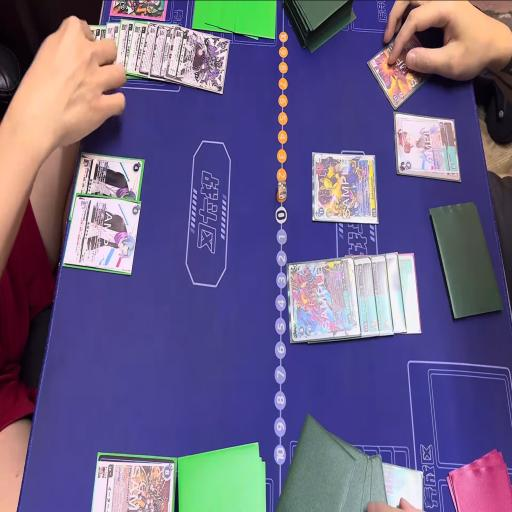card: (285, 256, 358, 349), (61, 194, 145, 274), (68, 152, 143, 230), (311, 153, 380, 230), (370, 29, 427, 111), (91, 458, 176, 512), (168, 26, 232, 92), (392, 118, 460, 176), (369, 449, 425, 512), (397, 250, 421, 346), (354, 254, 381, 337), (384, 250, 408, 343), (371, 253, 396, 341), (150, 23, 180, 83), (128, 21, 153, 85), (138, 22, 164, 80), (116, 14, 138, 76), (104, 18, 122, 85), (90, 28, 108, 80)
